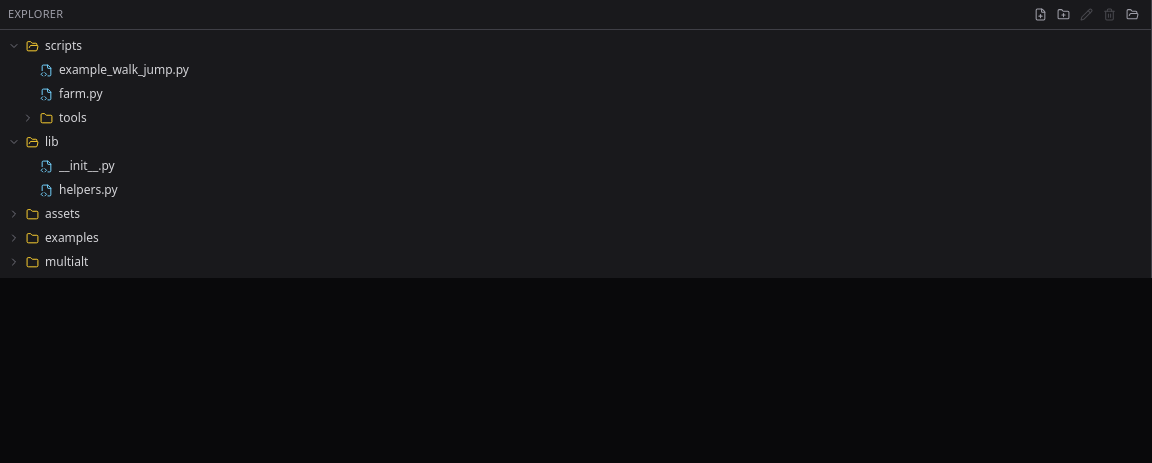
Test: FileExplorer tree › marks pinned blocks with a lock and examples as read-only
Click the list item "multialt" at (48, 262), box [8, 253, 88, 270]
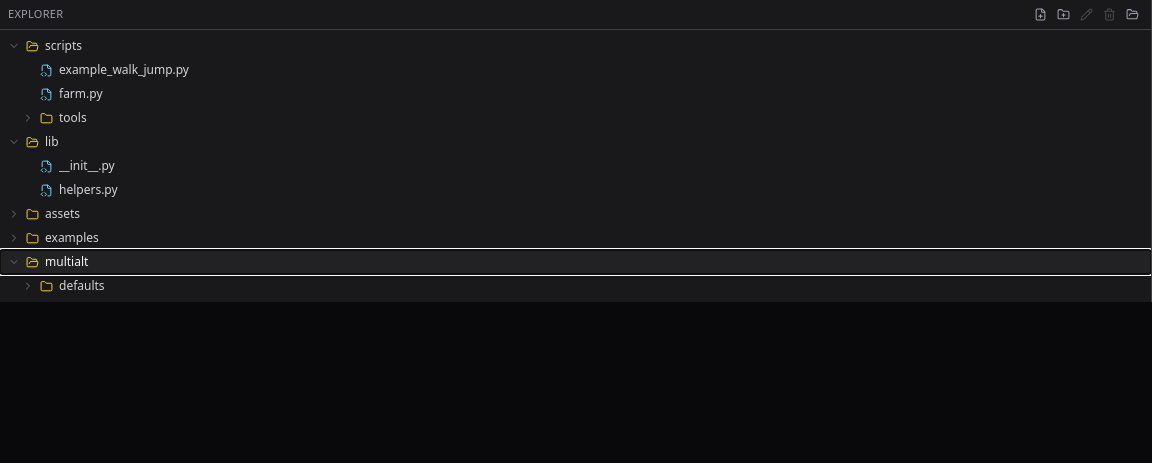
Click the list item "defaults" at (63, 286), box [22, 277, 105, 294]
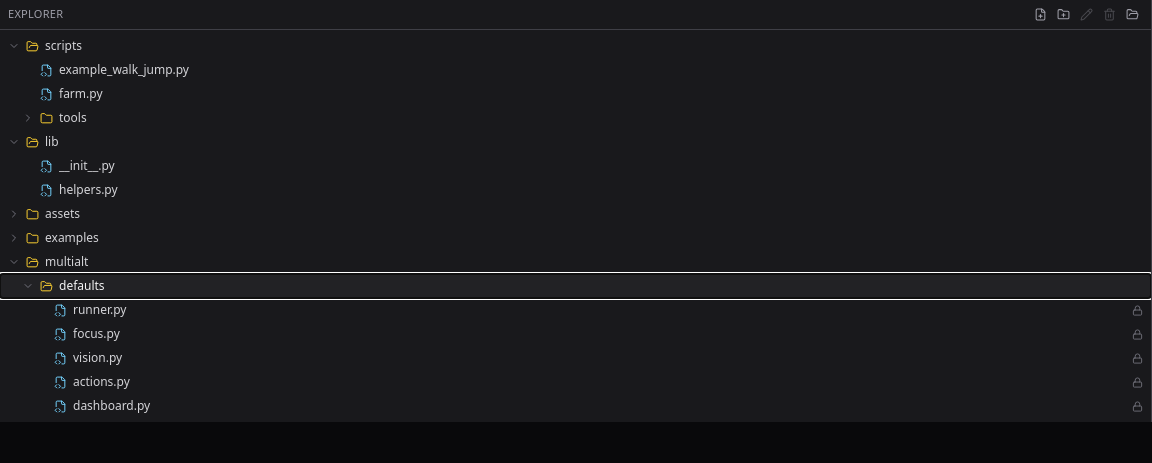
Click the list item "examples" at (53, 238), box [8, 229, 99, 246]
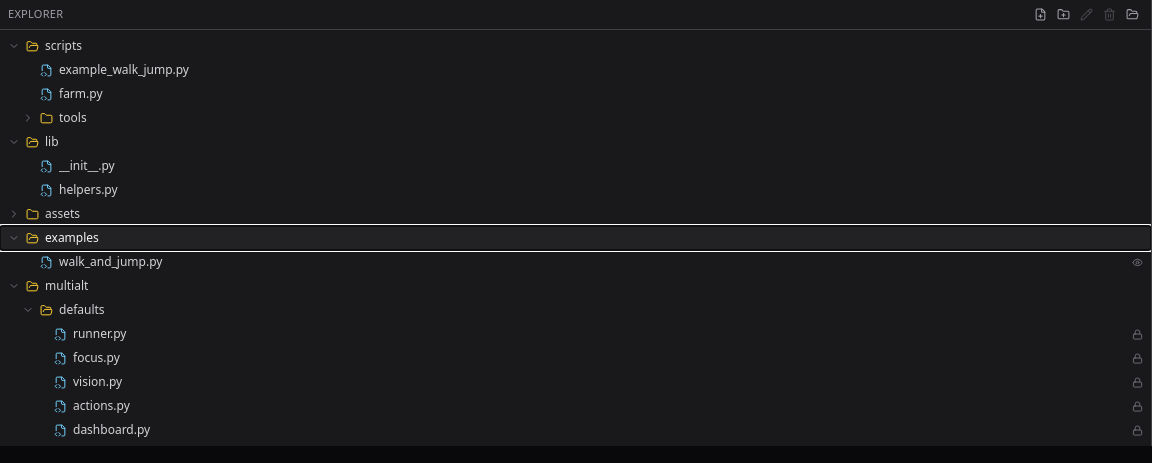
Result: the picture named "Locked default block" in the row of "runner.py" is shown at [1132, 328, 1143, 340]
Result: the picture named "Read-only" is shown at [1132, 256, 1143, 268]
